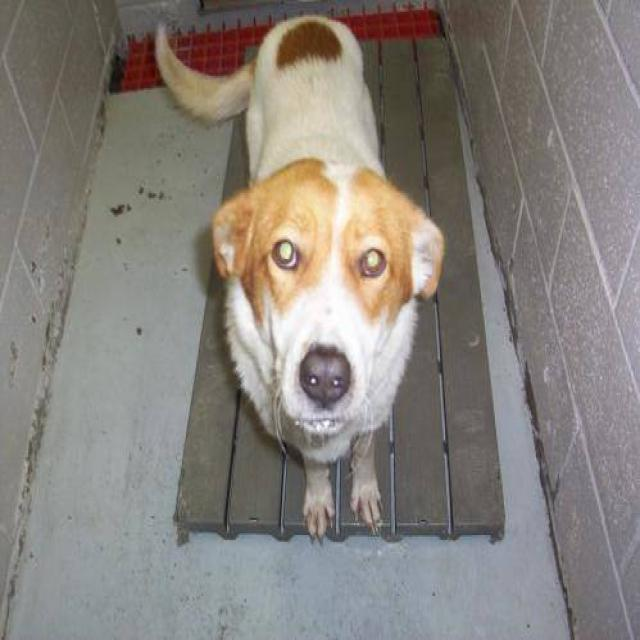Dog: (208, 159, 444, 454)
